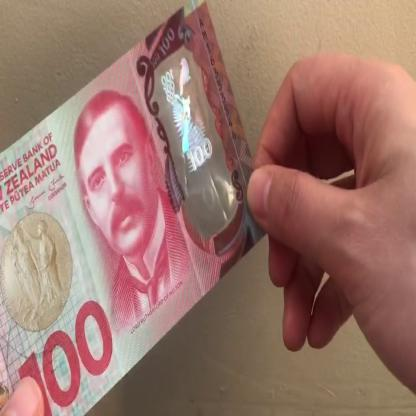100F: (158, 54, 224, 227)
